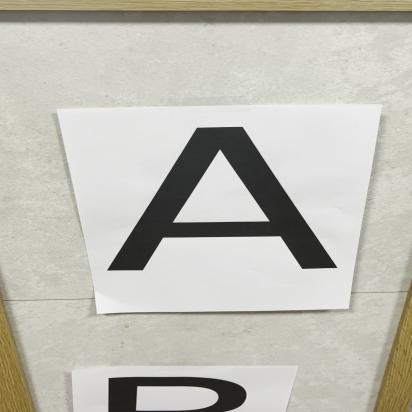seat: (87, 111, 362, 298)
